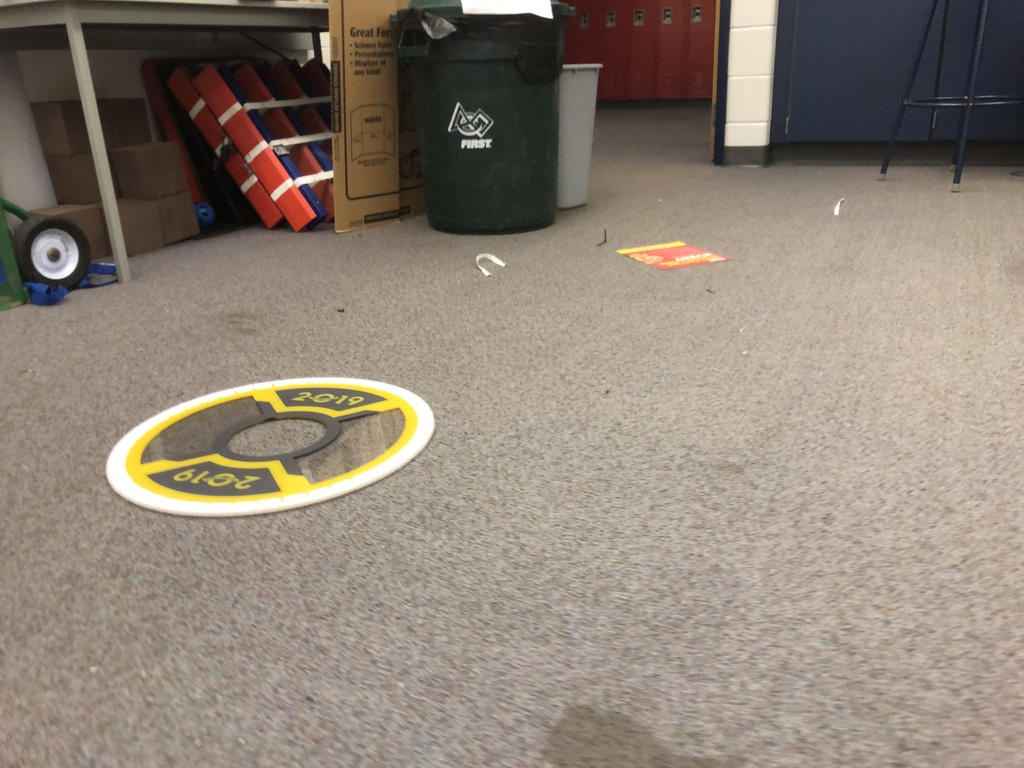hatch_panel: (99, 371, 448, 524)
